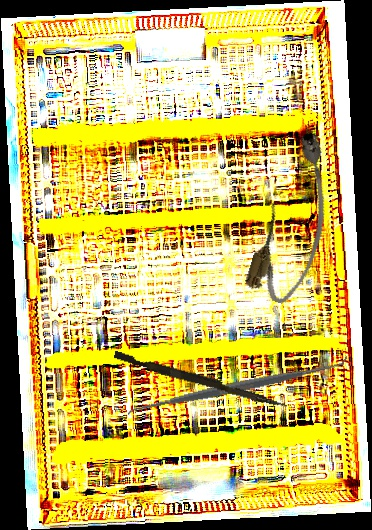Cannula: (242, 128, 351, 309)
Pusher: (112, 350, 290, 410)
Spatula Surgical: (124, 350, 352, 423)
